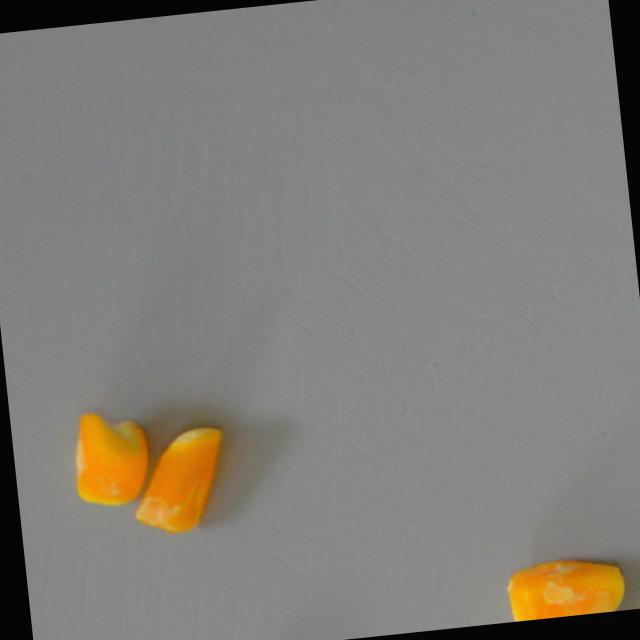dañado: (498, 545, 635, 622)
pelicula: (125, 425, 236, 545), (62, 396, 170, 517)
